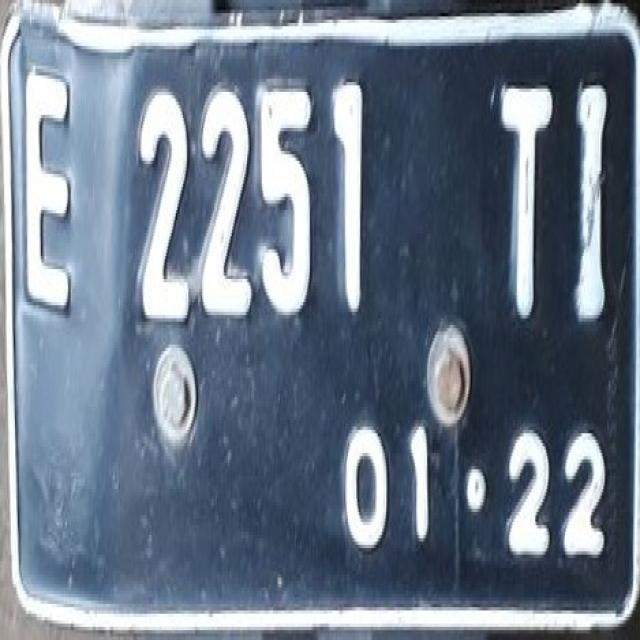plate: (0, 5, 639, 628)
